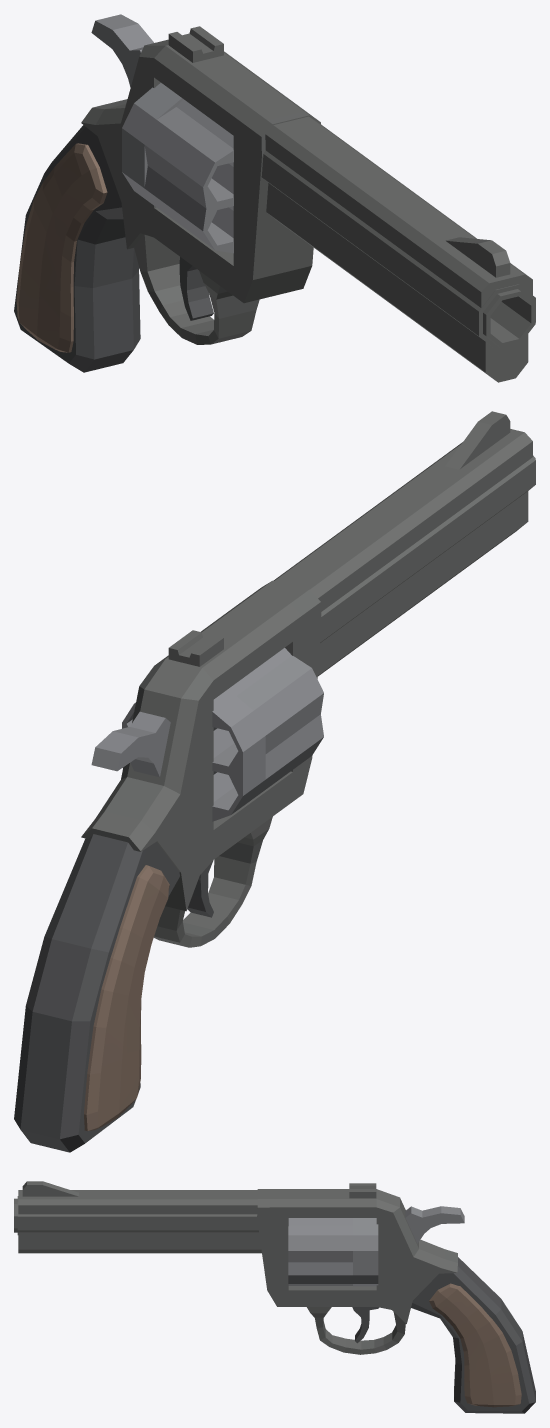
Rendered from revolver_2.glb.
The picture shows the model from 3 angles, top to bottom: view 1: azimuth 30°, elevation 25°; view 2: azimuth 150°, elevation 25°; view 3: azimuth 270°, elevation 25°; orthographic projection. The views are drawn at different scales.
Parts seen in each view (by area): view 1: revolver_2; view 2: revolver_2; view 3: revolver_2.
Boxes of the visible parts, box(x1,y1,x2,y2) form: revolver_2: box(14, 14, 535, 382); revolver_2: box(14, 411, 535, 1152); revolver_2: box(14, 1181, 535, 1413).
Size of the model in its own units: 0.0445 by 0.1426 by 0.2995.
